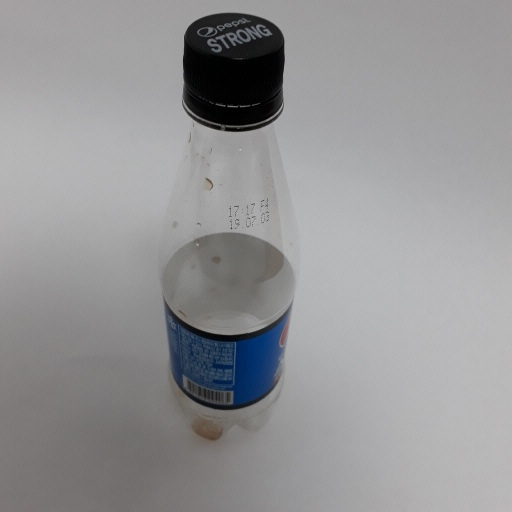Plastic_0: (151, 14, 297, 444)
